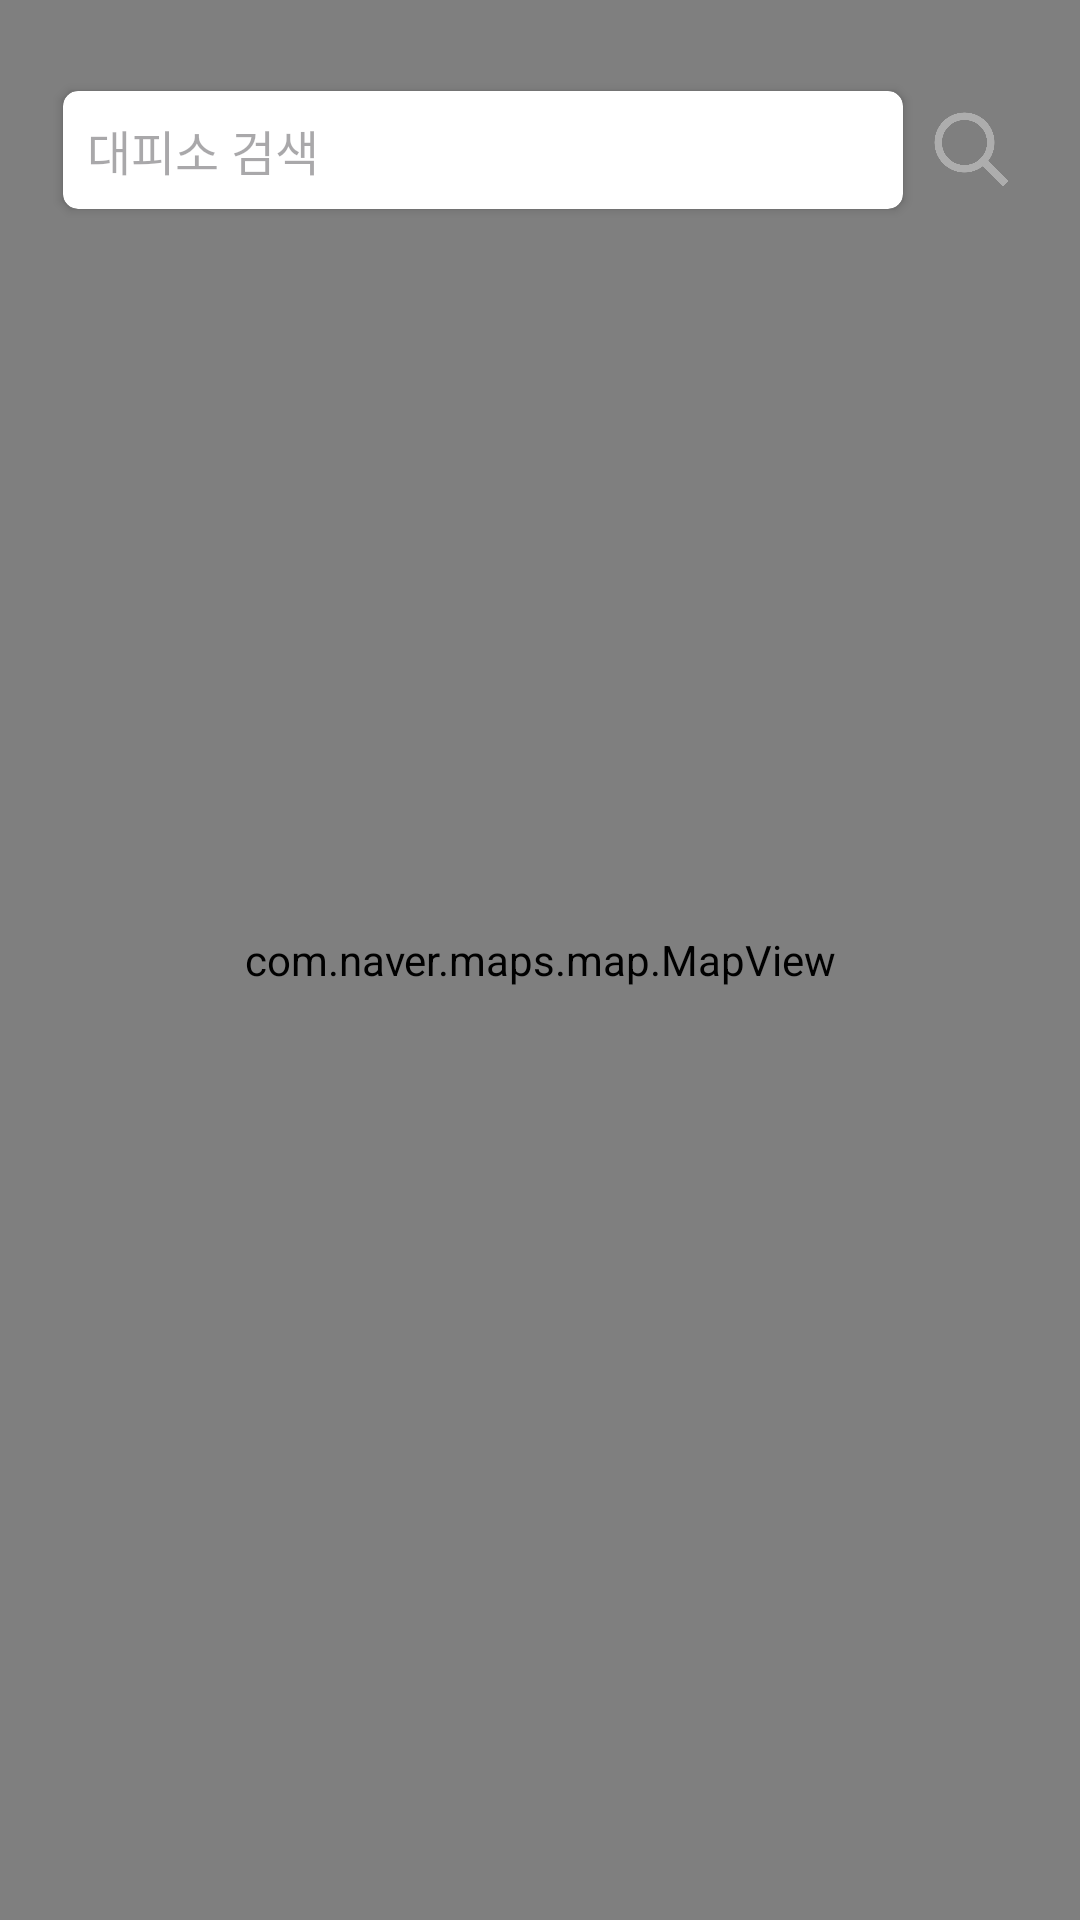

Named icons in this screenshot (1080*1920) and their bounding boxes, (x1, y1, x2, y2):
search: (935, 113, 1008, 186)
